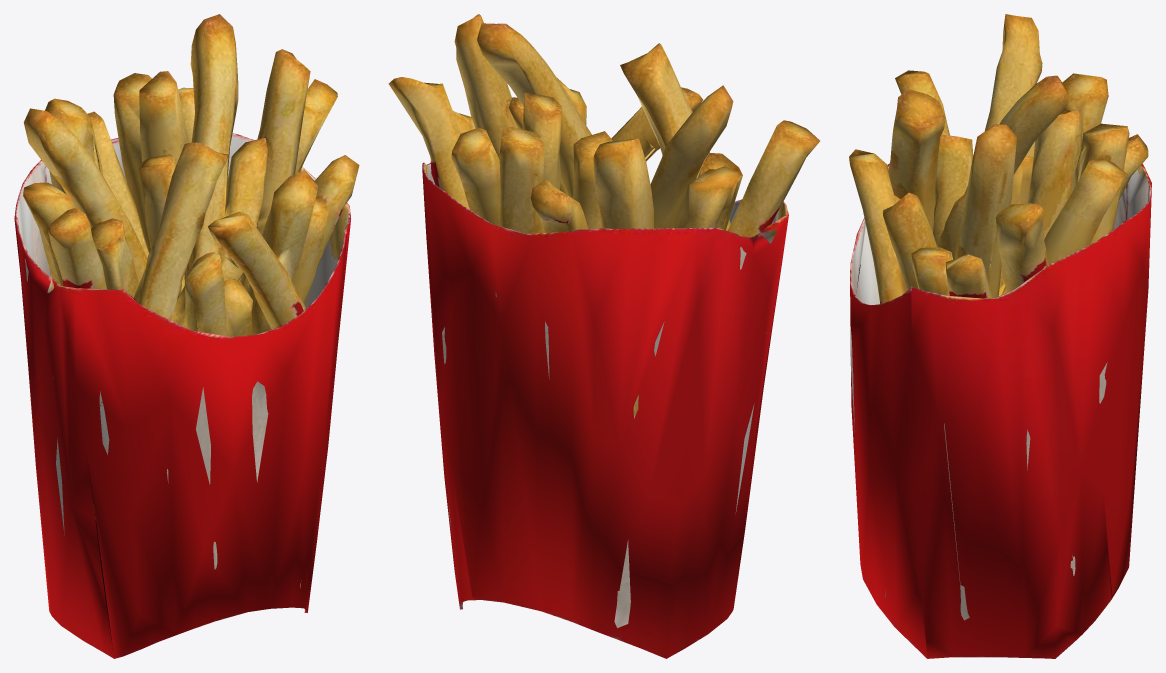
File: food-fries.glb
The picture shows the model from 3 angles, left to right: view 1: azimuth 30°, elevation 25°; view 2: azimuth 150°, elevation 25°; view 3: azimuth 270°, elevation 25°; orthographic projection. The views are drawn at different scales.
Visible parts, largest first — view 1: Model; view 2: Model; view 3: Model.
Boxes of the visible parts, bbox=[...] form: Model: bbox=[14, 14, 359, 658]; Model: bbox=[388, 14, 819, 658]; Model: bbox=[849, 14, 1151, 658].
Bounding box in the file's own units: 1.23 × 1.9 × 0.9247.
1 material, 1 textured.
